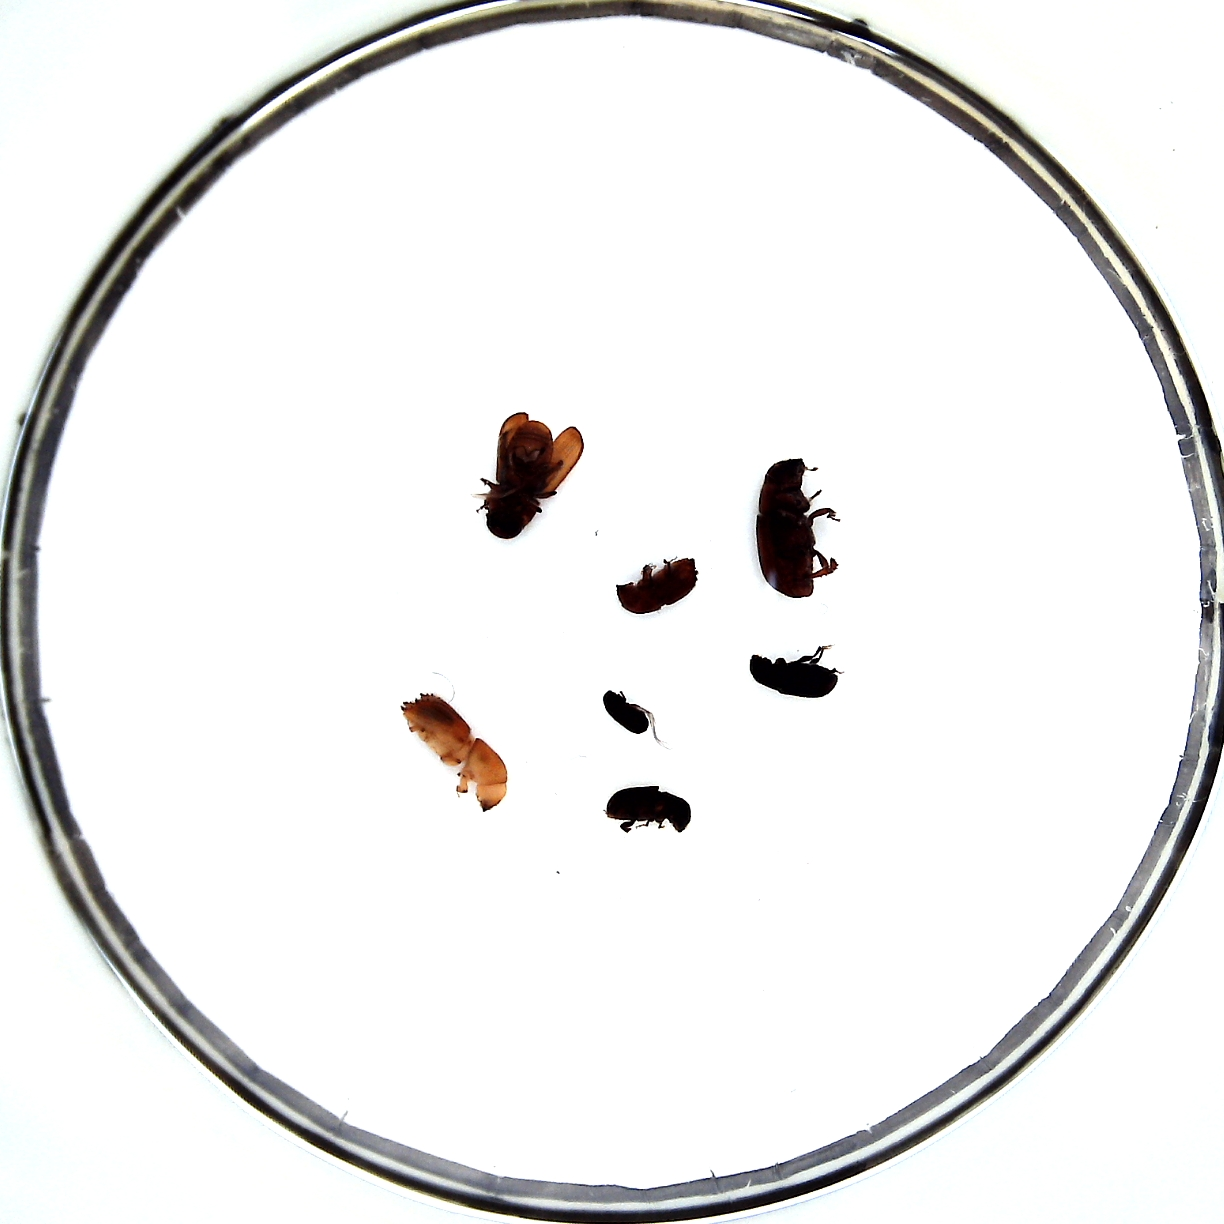Boerner: (401, 692, 508, 813)
Leconte: (474, 411, 584, 539), (755, 458, 817, 596)
armandi: (606, 785, 690, 833), (750, 653, 838, 697)
coleoptera: (602, 689, 649, 734)
linnaeus: (615, 557, 698, 614)
